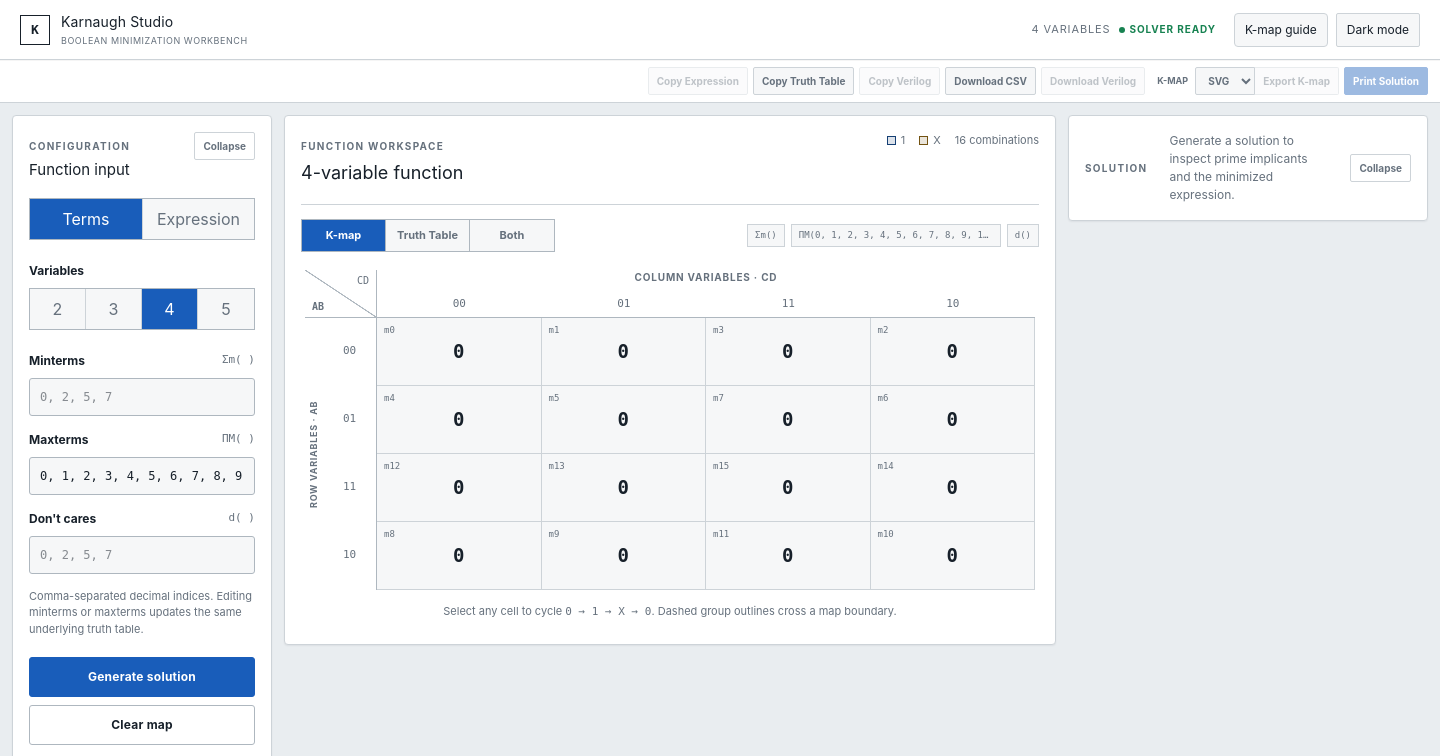
Test: HomePage K-map workbench › loads, solves, and compares a Boolean expression
The image size is (1440, 756).
Click the button "Expression": (198, 218) [142, 198, 254, 238]
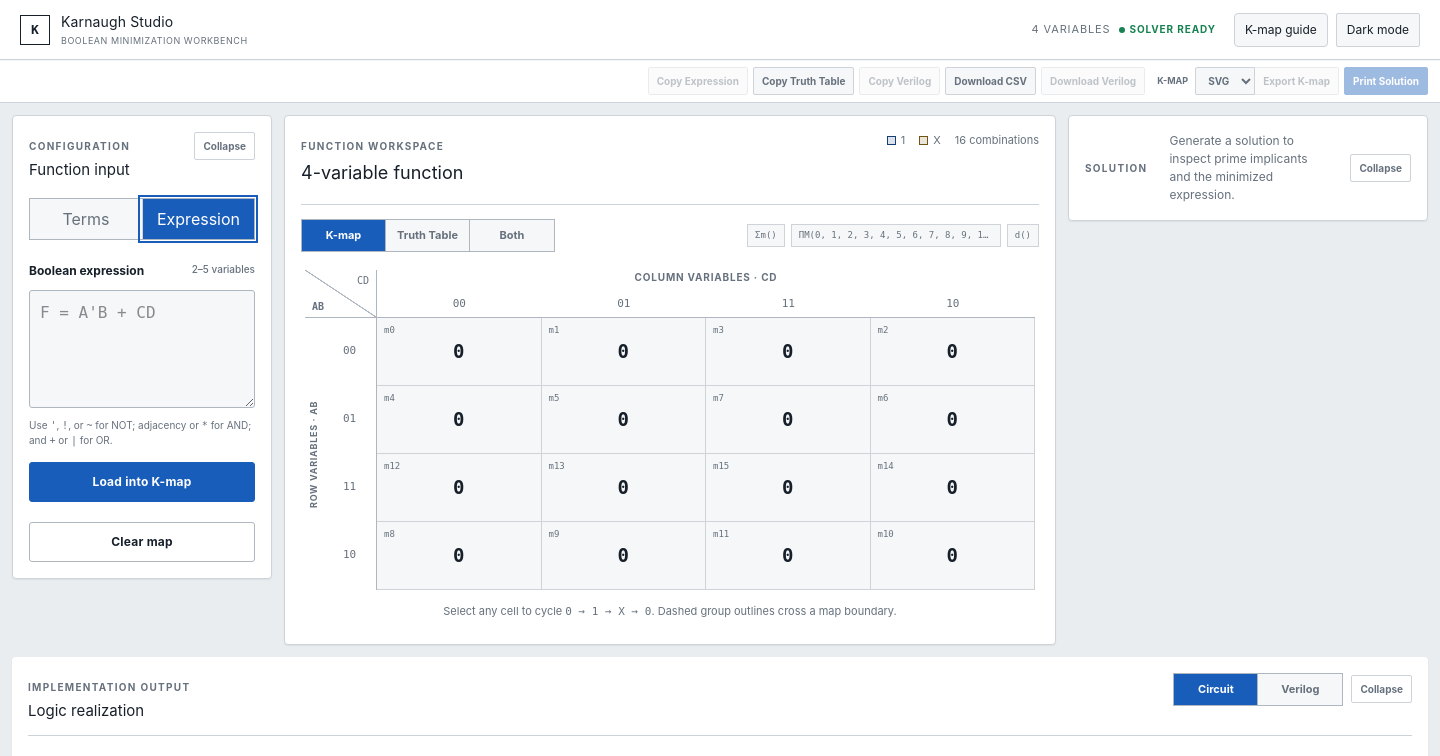
In the text box labelled "Boolean expression 2–5 variables": (142, 348) [29, 290, 255, 408], type "F = (A + B)C + A'BC"
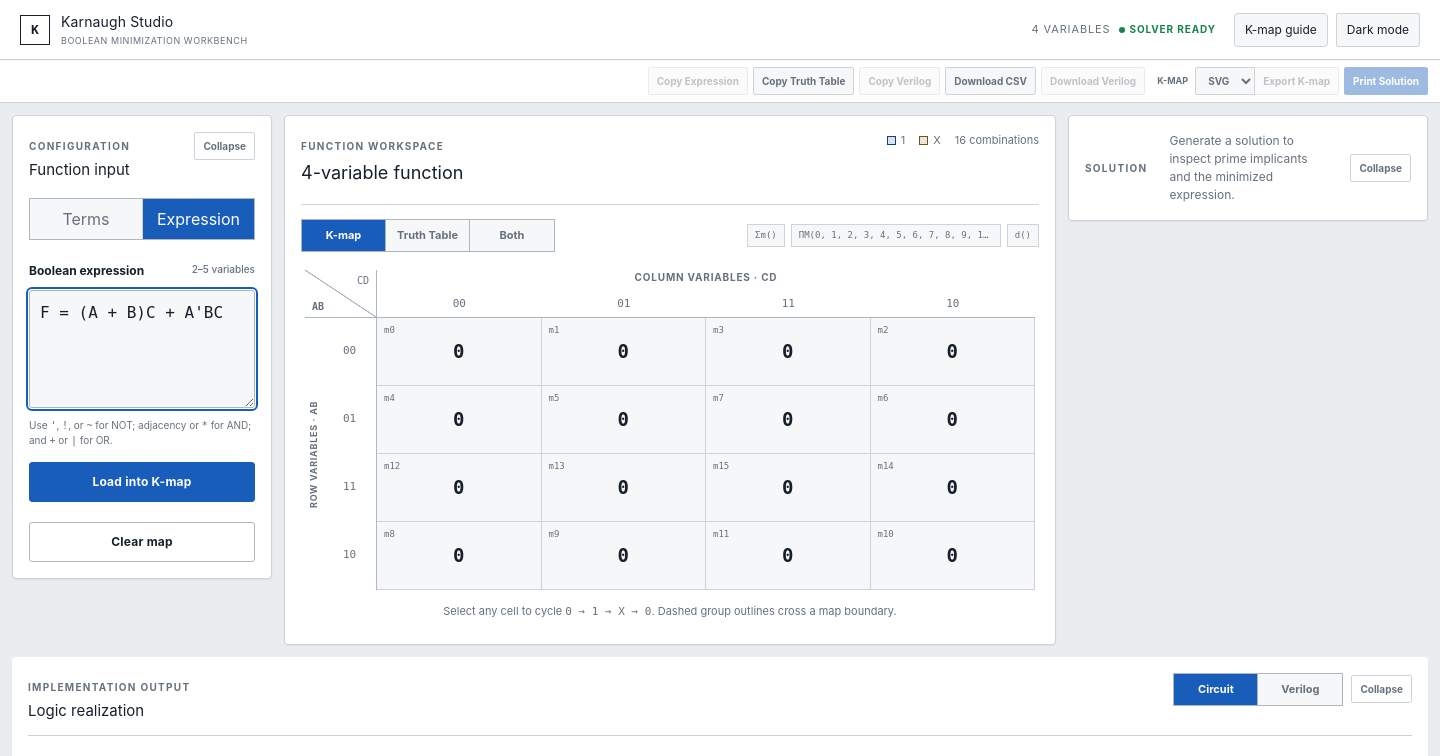
Click the button "Load into K-map": (142, 482) [29, 462, 255, 502]
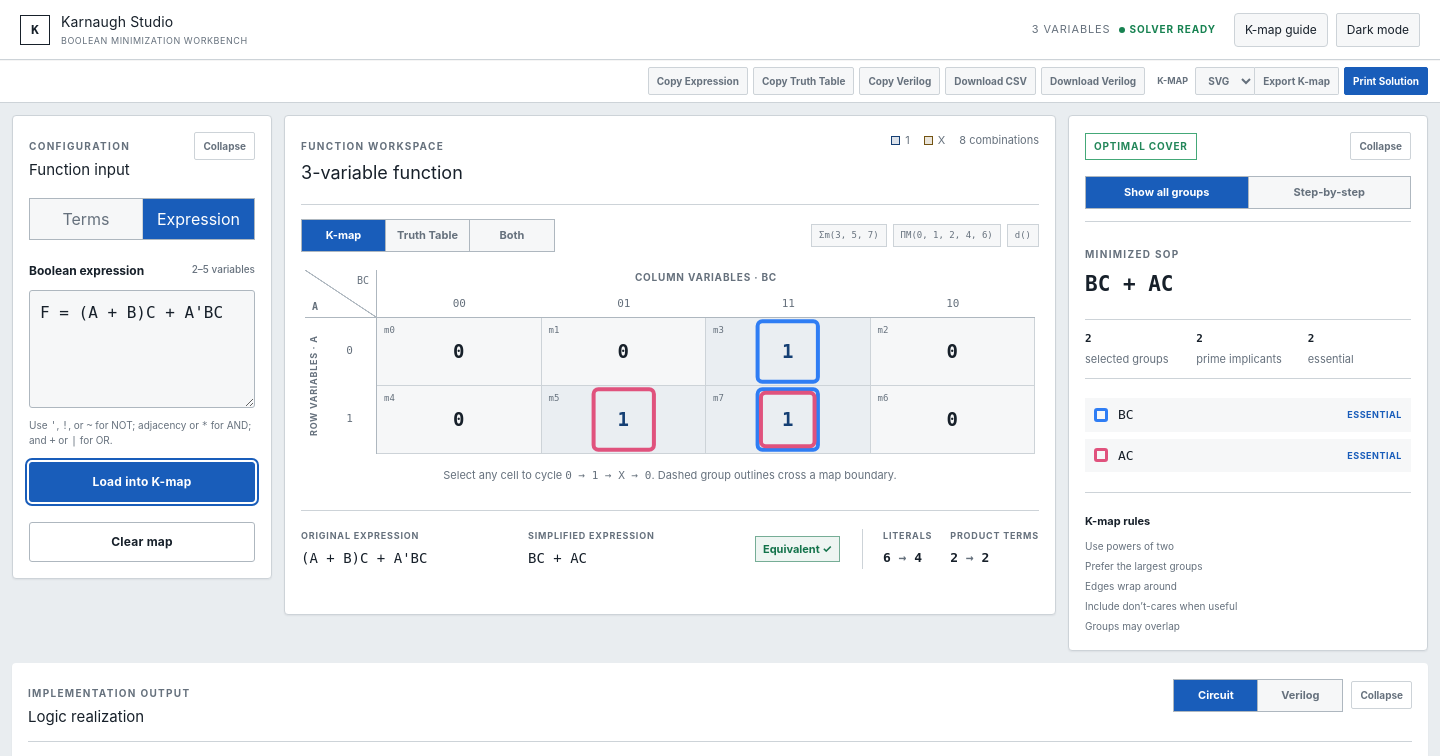
Result: the heading "3-variable function" is shown at [301, 159, 463, 186]
Result: the text "Equivalent ✓" is shown at [755, 536, 840, 562]
Result: the text "Original expression" is shown at [301, 530, 419, 541]
